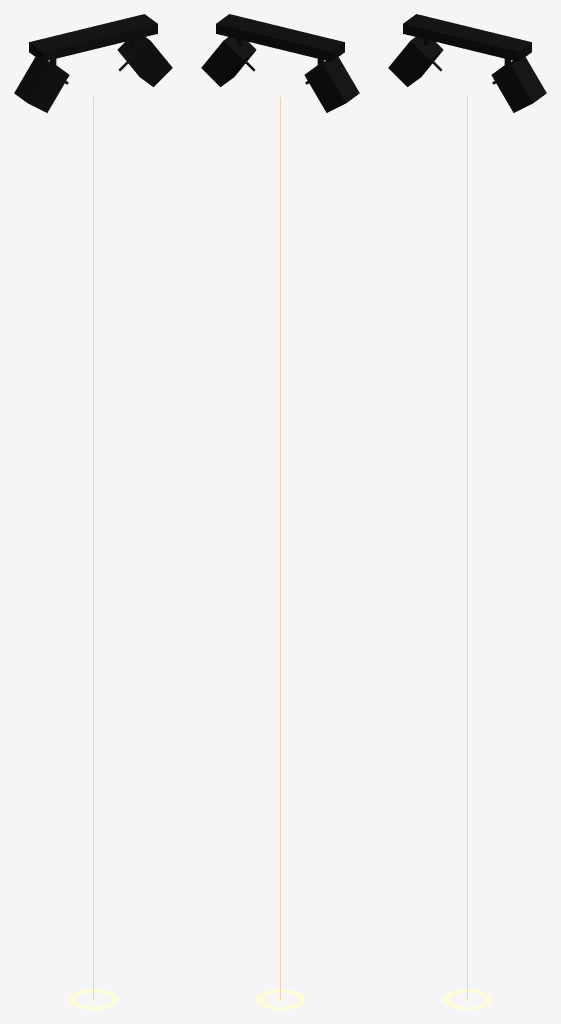
Rendered from plafonnier-spot-moderne-noir-orientable-modele-nerava.glb.
3 renders of one model, left to right at view 1: azimuth 30°, elevation 25°; view 2: azimuth 150°, elevation 25°; view 3: azimuth 330°, elevation 25°, orthographic.
Visible parts, largest first — view 1: plafonnier-spot-moderne-noir-orientable-modele-nerava, reperage-fil, reperage-sol; view 2: plafonnier-spot-moderne-noir-orientable-modele-nerava, reperage-fil, reperage-sol; view 3: plafonnier-spot-moderne-noir-orientable-modele-nerava, reperage-fil, reperage-sol.
Boxes of the visible parts, x1,y1,x2,y2 form: plafonnier-spot-moderne-noir-orientable-modele-nerava: [14, 14, 172, 112]; reperage-fil: [93, 96, 93, 999]; reperage-sol: [69, 989, 117, 1009]; plafonnier-spot-moderne-noir-orientable-modele-nerava: [201, 14, 359, 112]; reperage-fil: [280, 96, 280, 999]; reperage-sol: [256, 989, 304, 1009]; plafonnier-spot-moderne-noir-orientable-modele-nerava: [388, 14, 546, 112]; reperage-fil: [467, 96, 467, 999]; reperage-sol: [443, 989, 491, 1009].
Bounding box in the file's own units: 0.3767 × 2.4 × 0.11.
